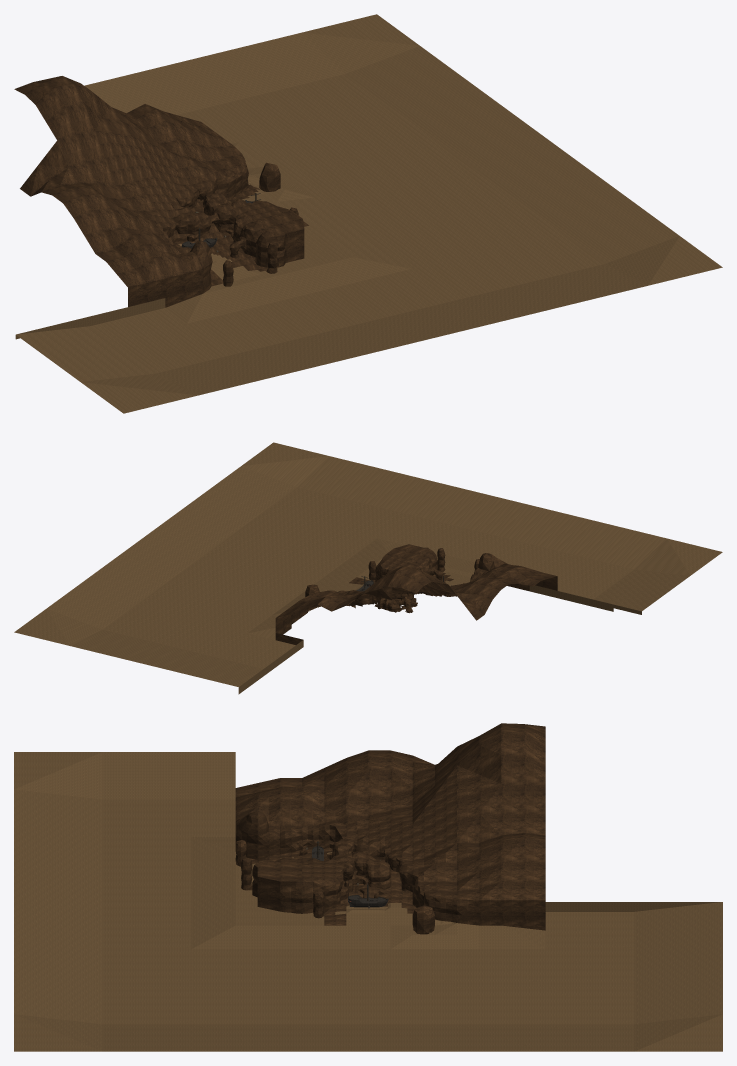
The model's file is shipwreck.obj.
3 views of the same model, one above another, from view 1: azimuth 30°, elevation 25°; view 2: azimuth 150°, elevation 25°; view 3: azimuth 270°, elevation 25° (orthographic). The views are drawn at different scales.
Parts seen in each view (by area): view 1: slot454, slot457, slot456, slot452; view 2: slot454, slot457, slot456; view 3: slot454, slot457, slot456, slot452.
Part boxes in pixels (left/top/right/bottom): slot454: left=15, top=14, right=722, bottom=413; slot457: left=14, top=76, right=304, bottom=307; slot456: left=95, top=131, right=285, bottom=271; slot452: left=169, top=184, right=308, bottom=286; slot454: left=14, top=442, right=722, bottom=694; slot457: left=275, top=544, right=557, bottom=644; slot456: left=318, top=548, right=488, bottom=612; slot454: left=14, top=752, right=722, bottom=1051; slot457: left=235, top=723, right=545, bottom=934; slot456: left=246, top=766, right=456, bottom=917; slot452: left=247, top=839, right=416, bottom=925.
Size of the model in its own units: 8192 by 1568 by 8192.
